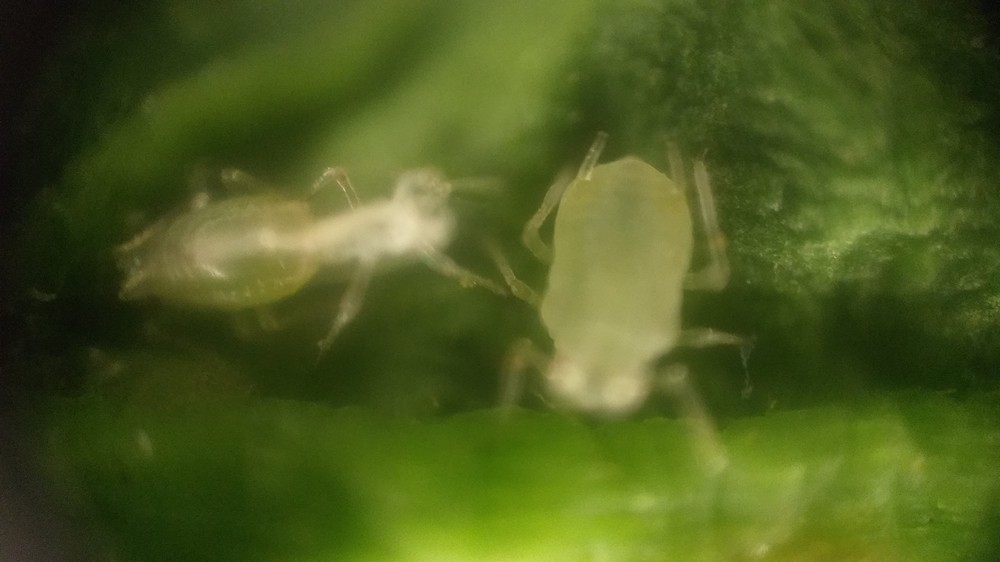Pulgon: (499, 62, 777, 485), (97, 140, 344, 360)
